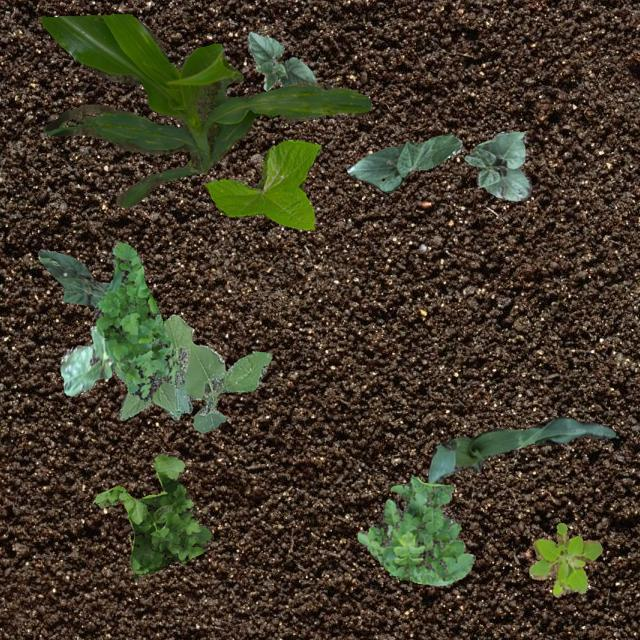crop: (41, 13, 372, 206), (422, 416, 614, 482), (204, 138, 320, 228), (346, 132, 462, 192), (464, 130, 530, 200), (36, 248, 108, 306), (247, 30, 316, 90), (58, 324, 115, 394)
weed: (112, 314, 270, 432), (92, 452, 212, 578), (92, 240, 178, 400), (356, 474, 474, 584), (528, 522, 602, 596)
